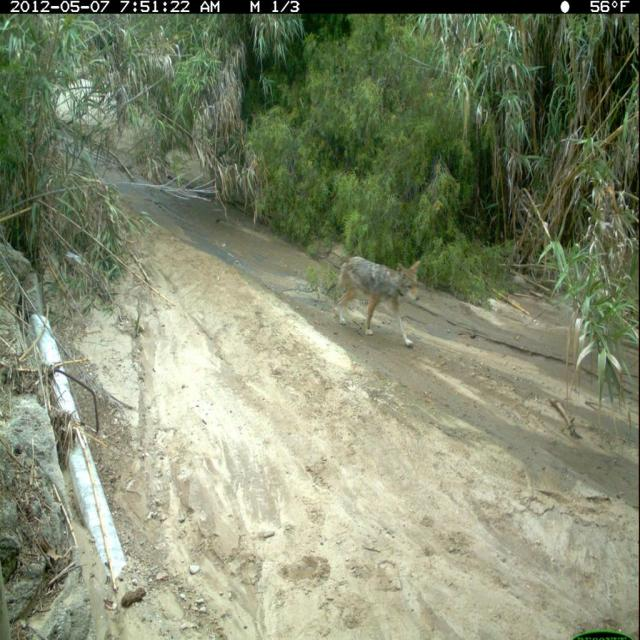coyote: (331, 254, 425, 353)
